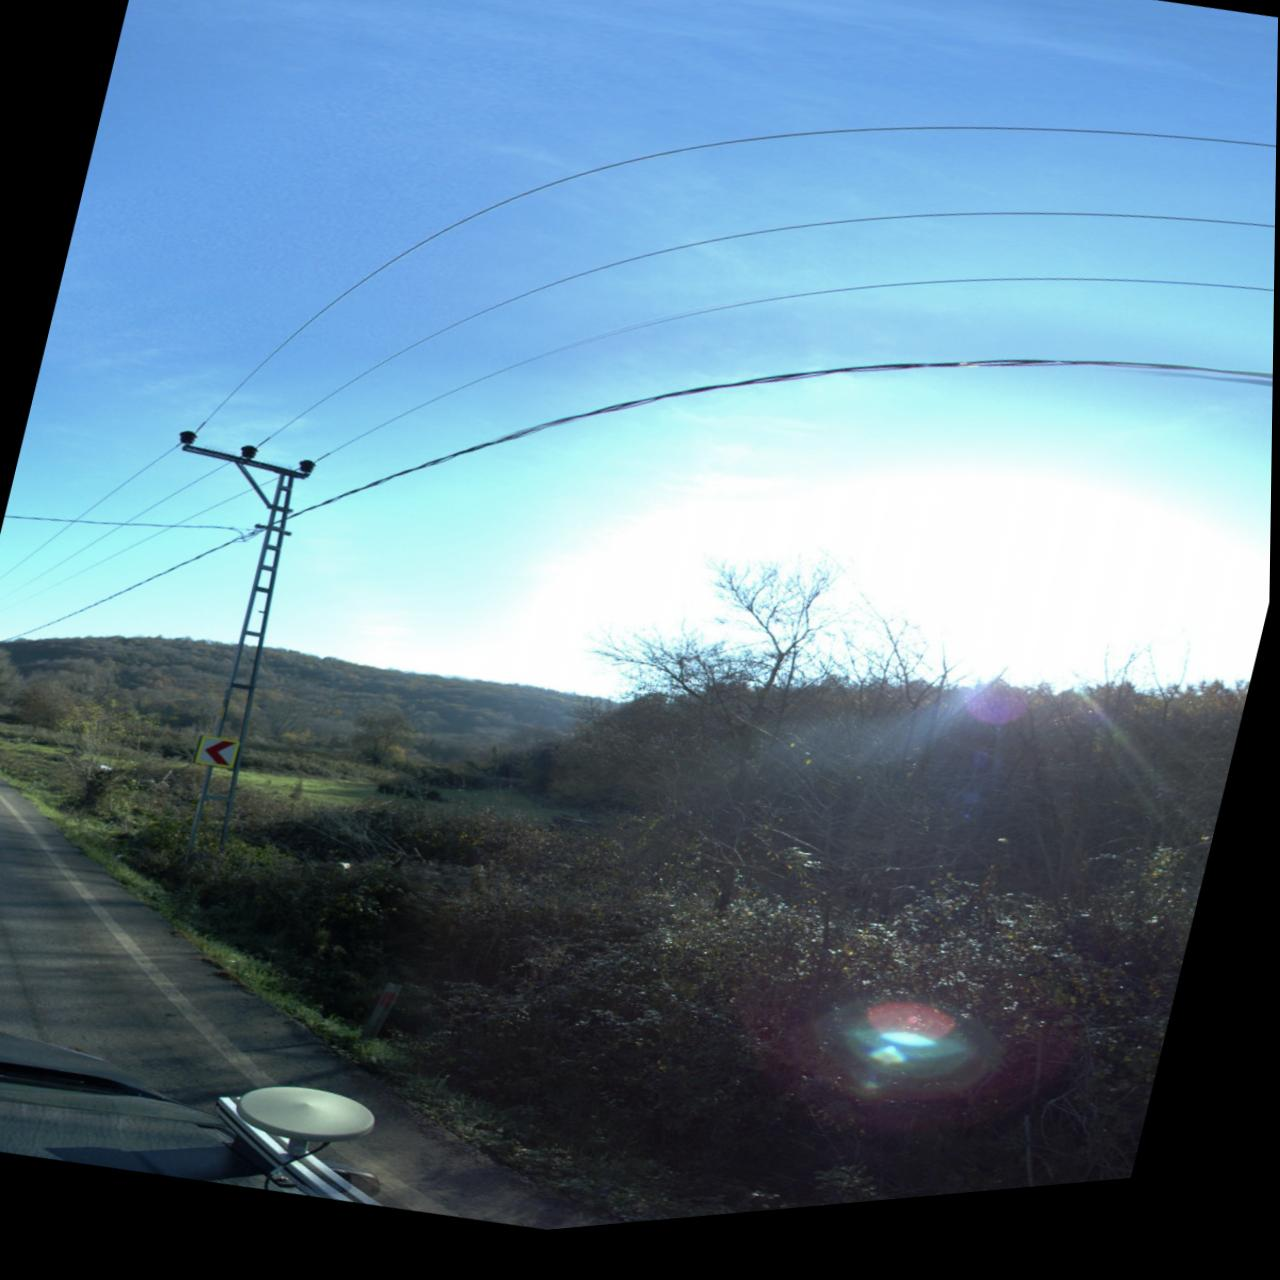Utility Pole Information Plate: (219, 710, 229, 722)
